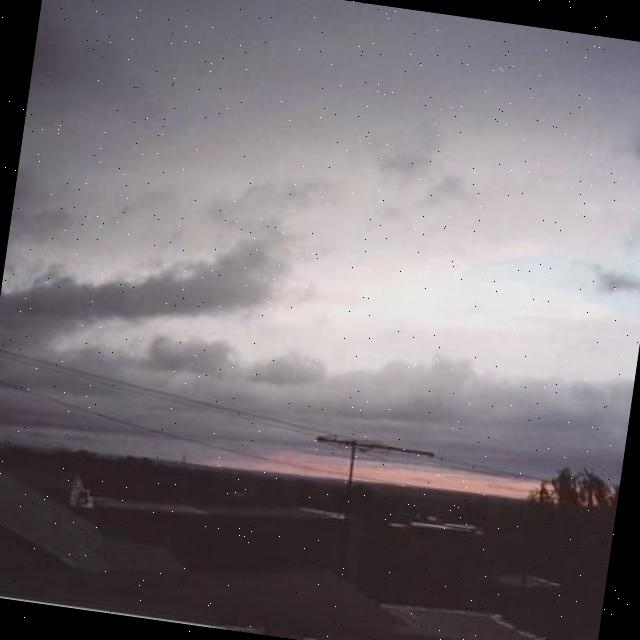St: (1, 1, 640, 444)
